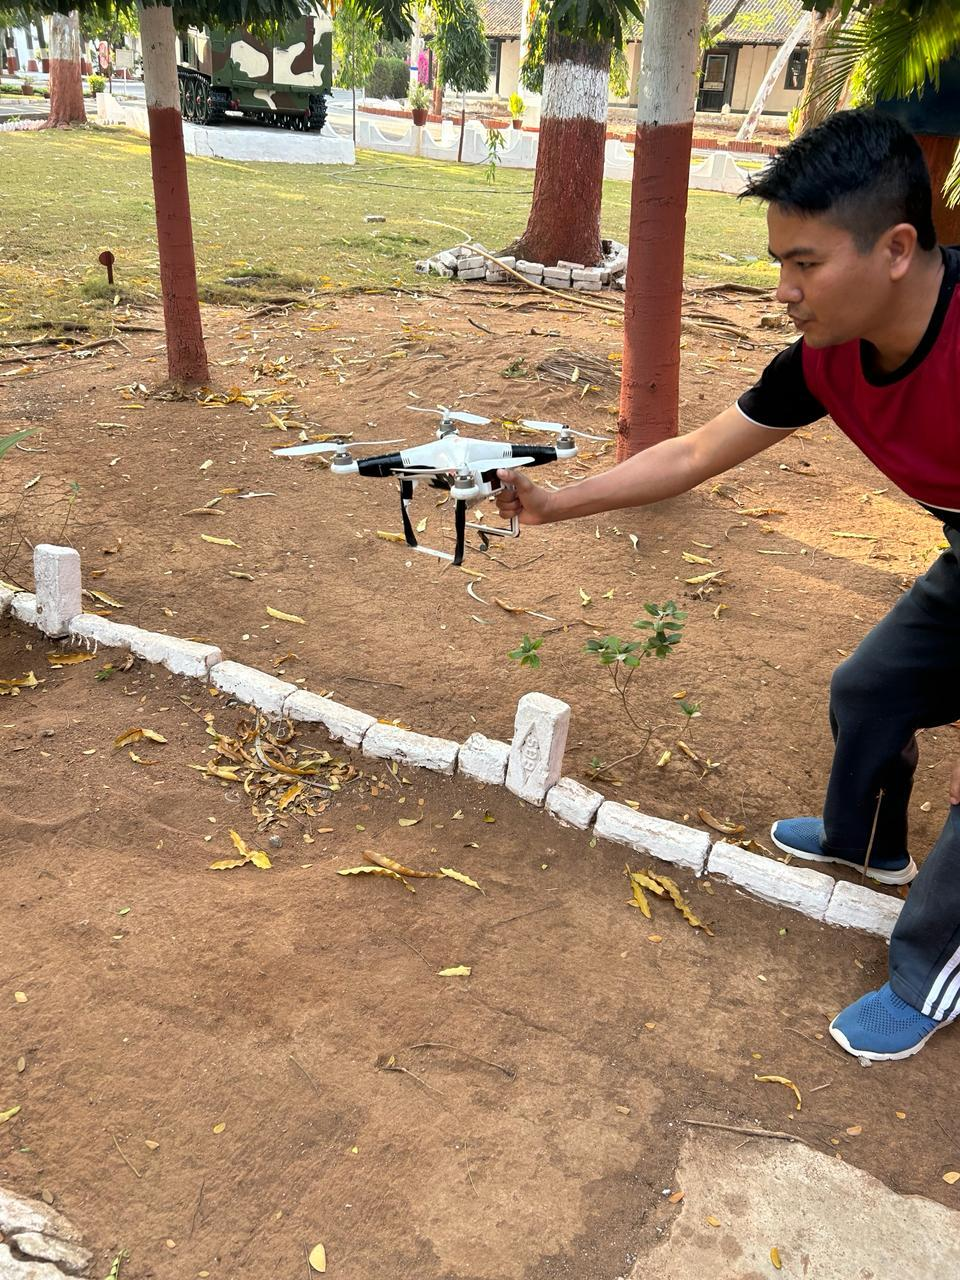drone: (268, 404, 609, 569)
